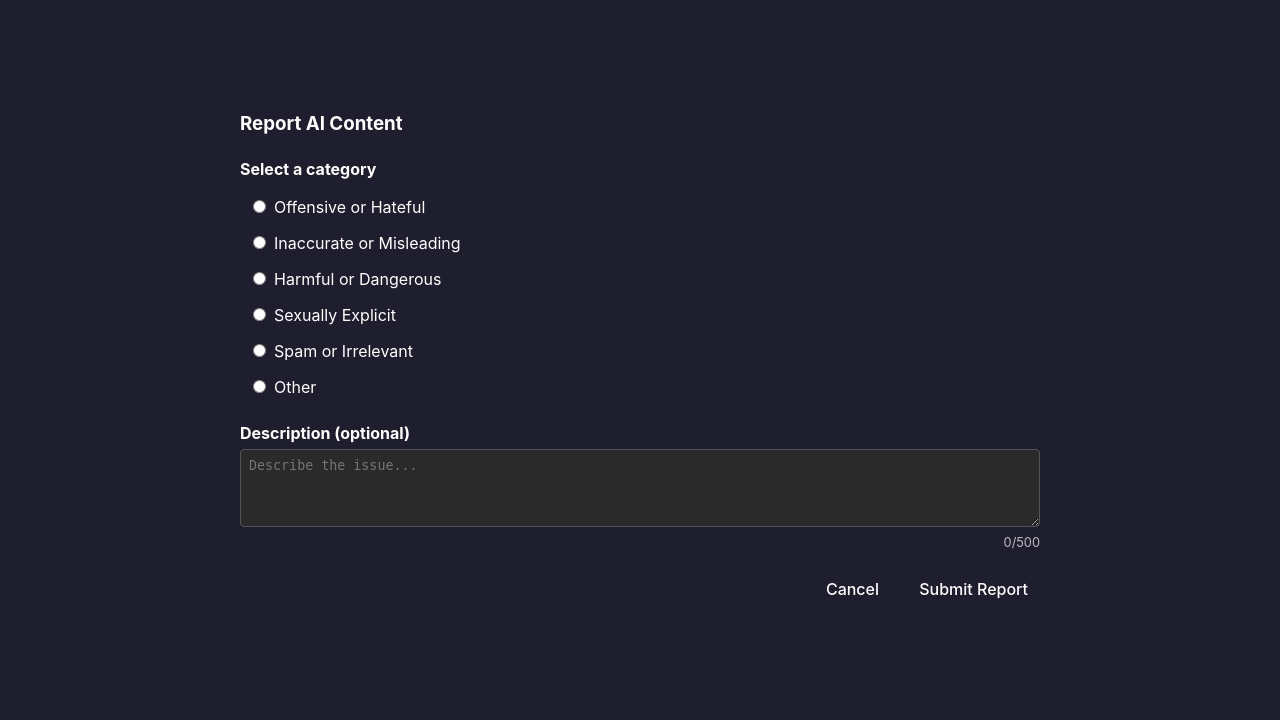
Test case: ReportContentModal › validation › shows validation message when submitting without selecting a category
Click the button "Submit Report": (974, 589) [907,568,1040,610]
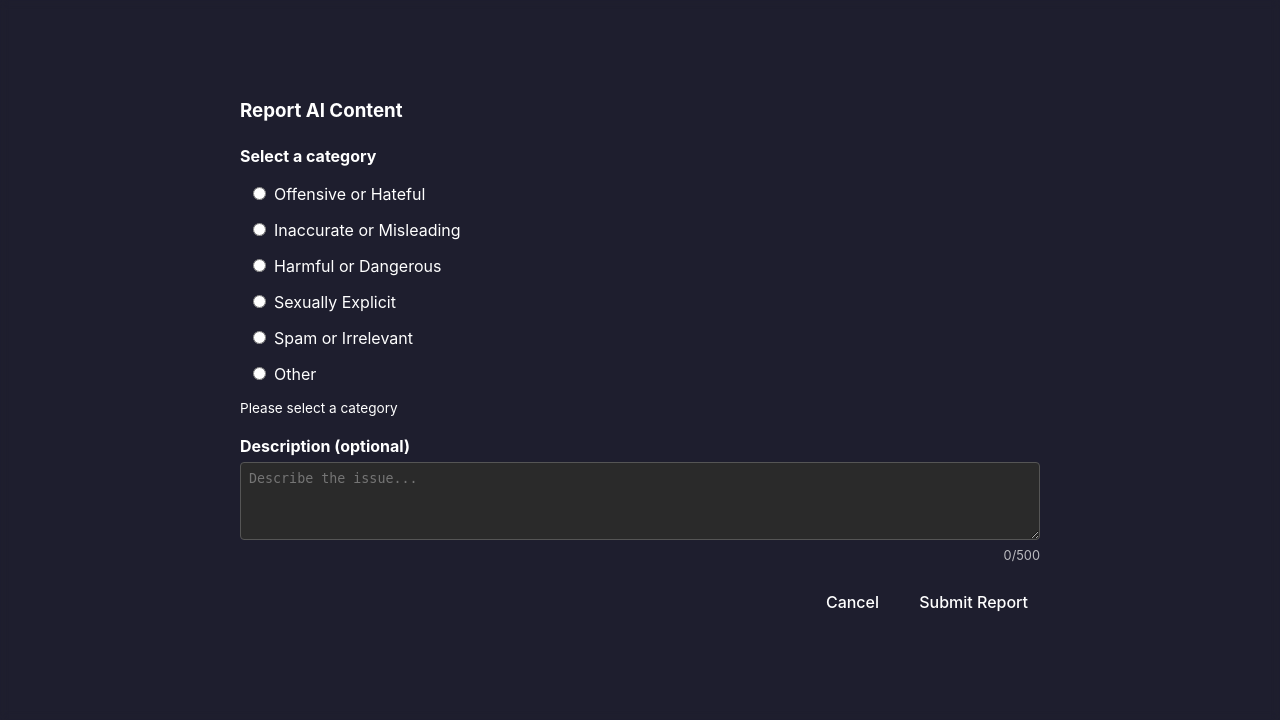
Result: the text "Please select a category" is shown at [240,400,398,416]
